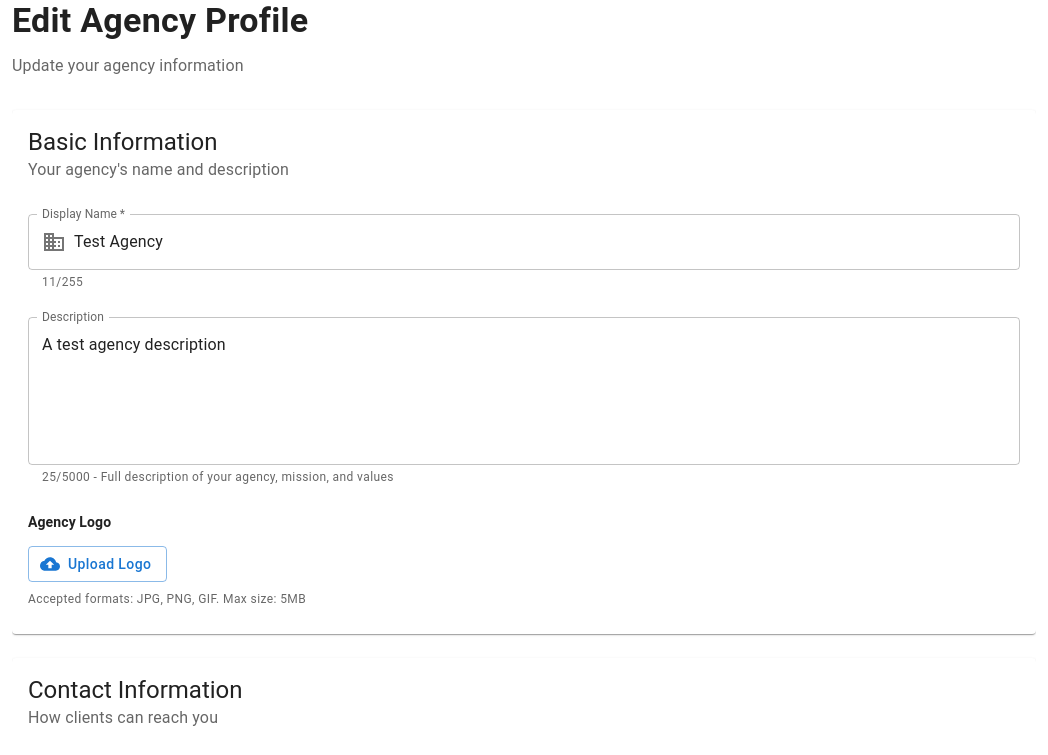
Edit Agency Page - Component Tests › Validation Errors › shows error snackbar when validation fails
Clear the field showing "Test Agency": (547, 242) [74, 214, 1020, 270]
(page scrolled)
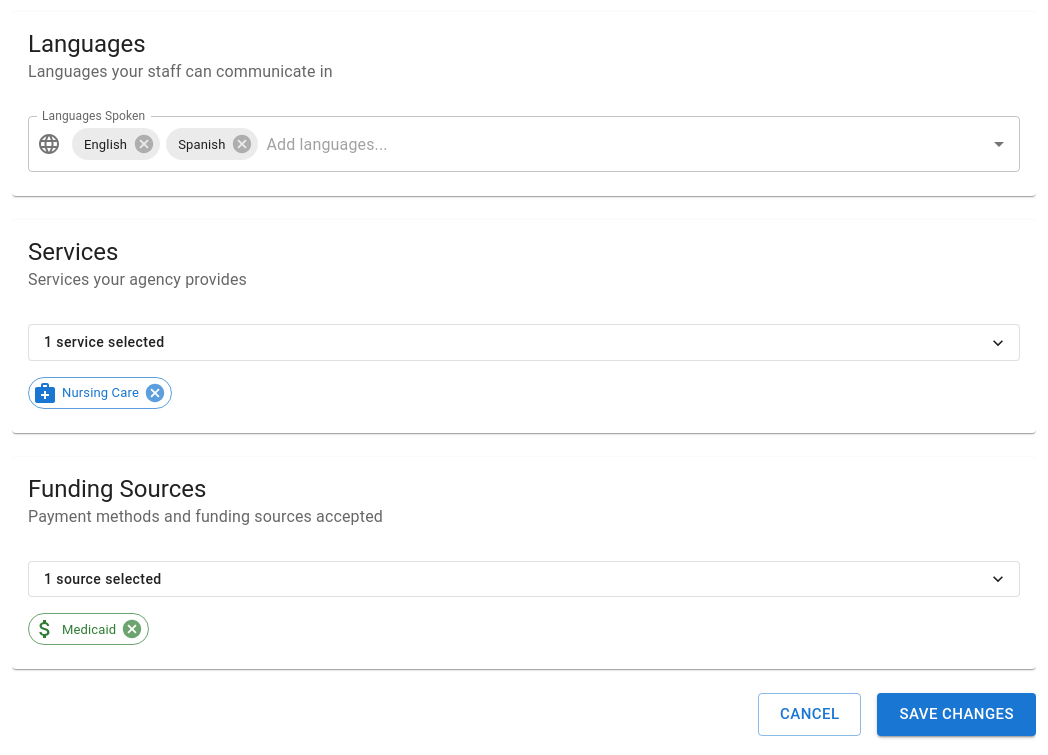
Click the button "Save Changes": (957, 715) [878, 694, 1036, 736]
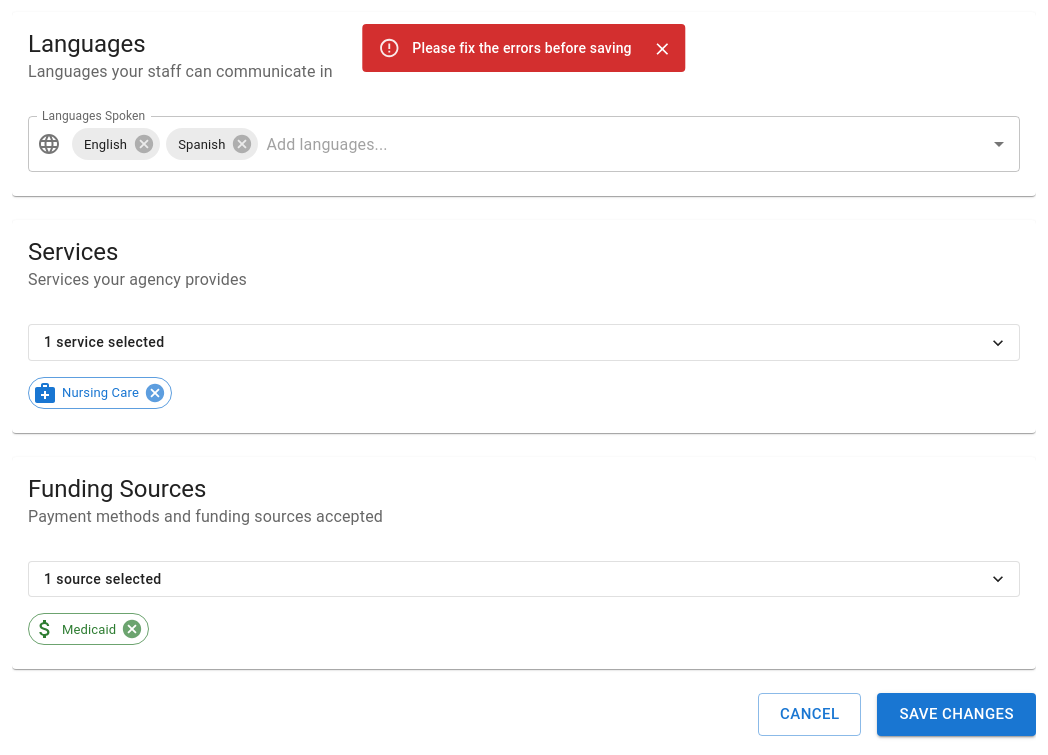
expect the text "Please fix the errors before saving" is shown: met, box [412, 40, 632, 56]
